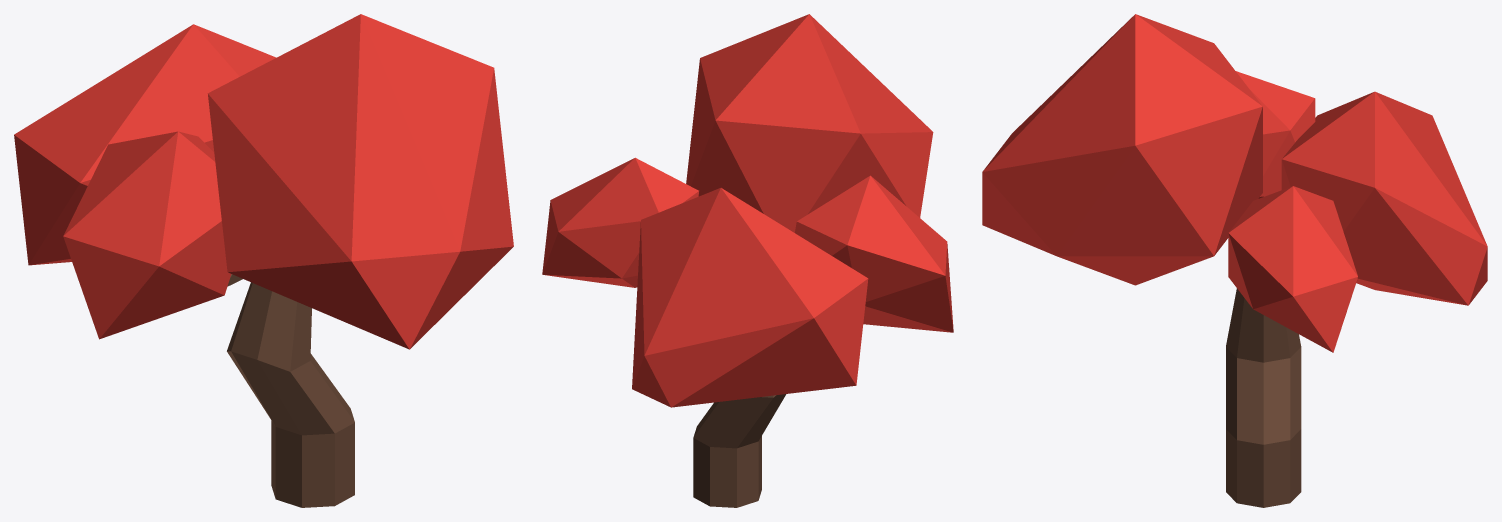
Rendered from TreeMaple.fbx.
The picture shows the model from 3 angles, left to right: view 1: azimuth 30°, elevation 25°; view 2: azimuth 150°, elevation 25°; view 3: azimuth 270°, elevation 25°; orthographic projection. The views are drawn at different scales.
Visible parts, largest first — view 1: TreeMaple; view 2: TreeMaple; view 3: TreeMaple.
Part boxes in pixels (x1,y1,x2,y2): TreeMaple: (14,14,513,507); TreeMaple: (542,14,953,507); TreeMaple: (982,14,1487,507).
Size of the model in its own units: 13.21 by 14.84 by 14.56.
